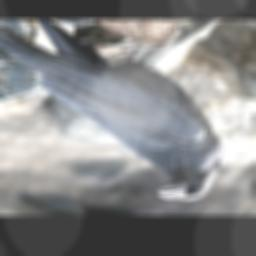Crow: (0, 20, 225, 201)
